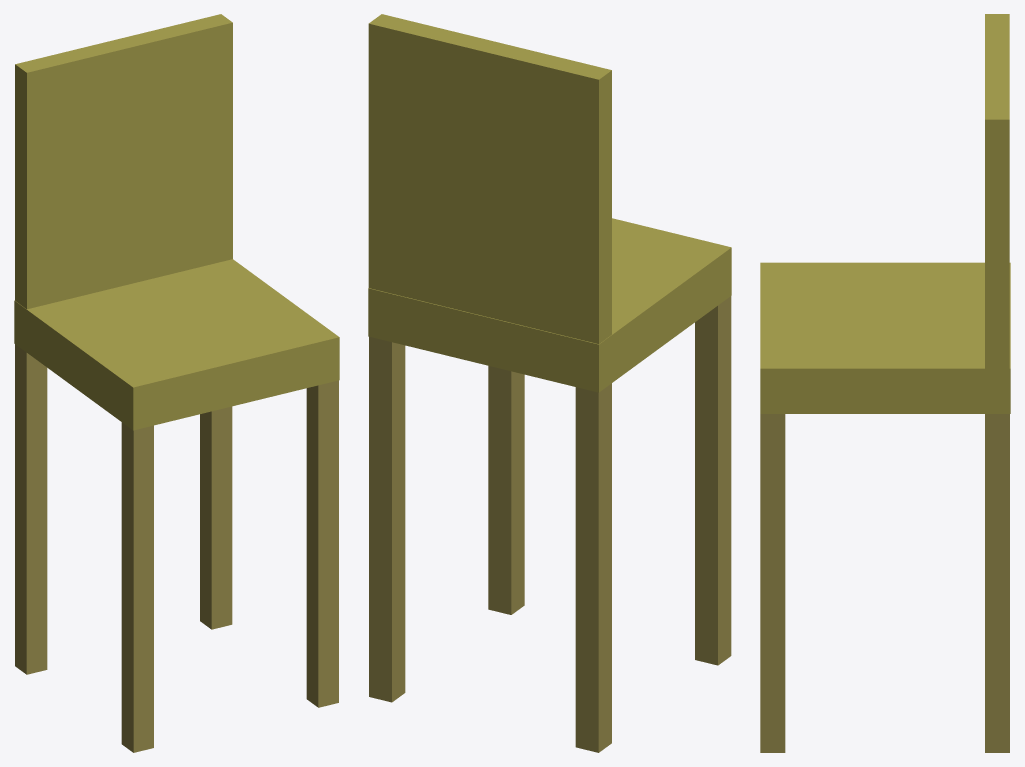
The model's file is chair.dae.
3 renders of one model, left to right at view 1: azimuth 30°, elevation 25°; view 2: azimuth 150°, elevation 25°; view 3: azimuth 270°, elevation 25°, orthographic. The views are drawn at different scales.
Parts seen in each view (by area): view 1: node0, node1; view 2: node0, node1; view 3: node0, node1.
Boxes of the visible parts, left/top/right/bottom form: node0: left=14, top=14, right=339, bottom=430; node1: left=15, top=344, right=338, bottom=752; node0: left=368, top=14, right=731, bottom=392; node1: left=369, top=296, right=731, bottom=752; node0: left=760, top=14, right=1010, bottom=413; node1: left=760, top=414, right=1009, bottom=752.
Bounding box in the file's own units: 0.5022 × 0.501 × 1.4.
